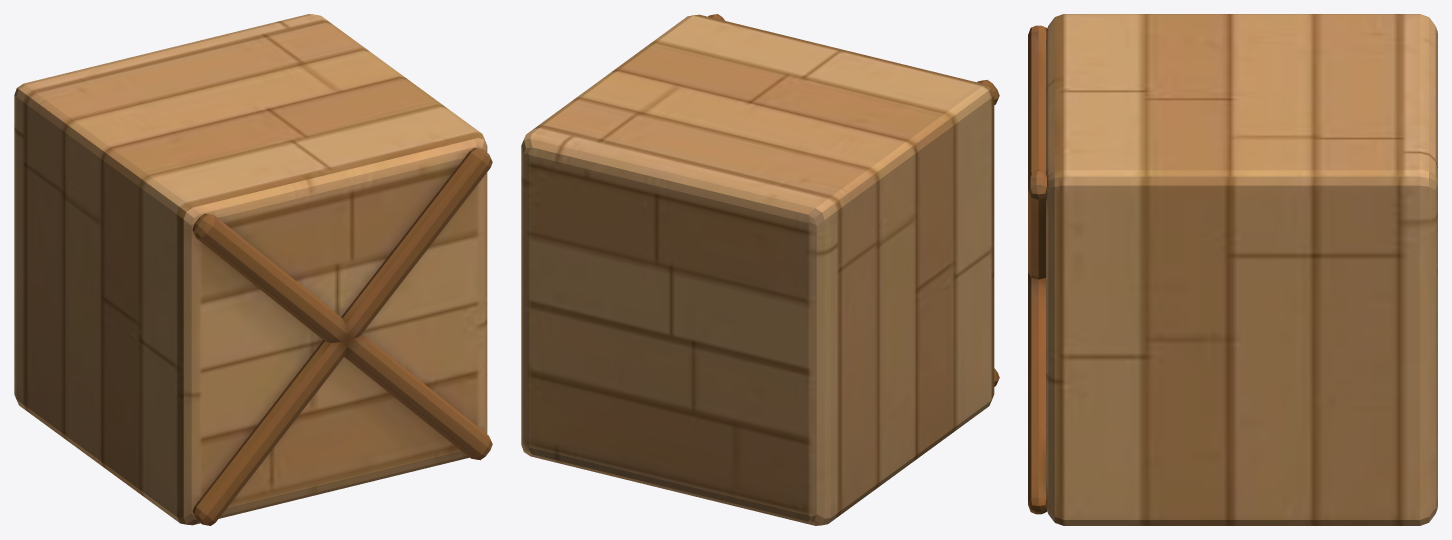
File: crate_1_1.glb
3 views of the same model, side by side, from view 1: azimuth 30°, elevation 25°; view 2: azimuth 150°, elevation 25°; view 3: azimuth 270°, elevation 25° (orthographic). The views are drawn at different scales.
Visible parts, largest first — view 1: Mesh_0; view 2: Mesh_0; view 3: Mesh_0.
Boxes of the visible parts, x1,y1,x2,y2 form: Mesh_0: [14, 14, 492, 525]; Mesh_0: [521, 14, 999, 525]; Mesh_0: [1028, 14, 1437, 525].
Size of the model in its own units: 1.1 by 1.1 by 1.15.
Materials: 1 (1 with a texture image).
